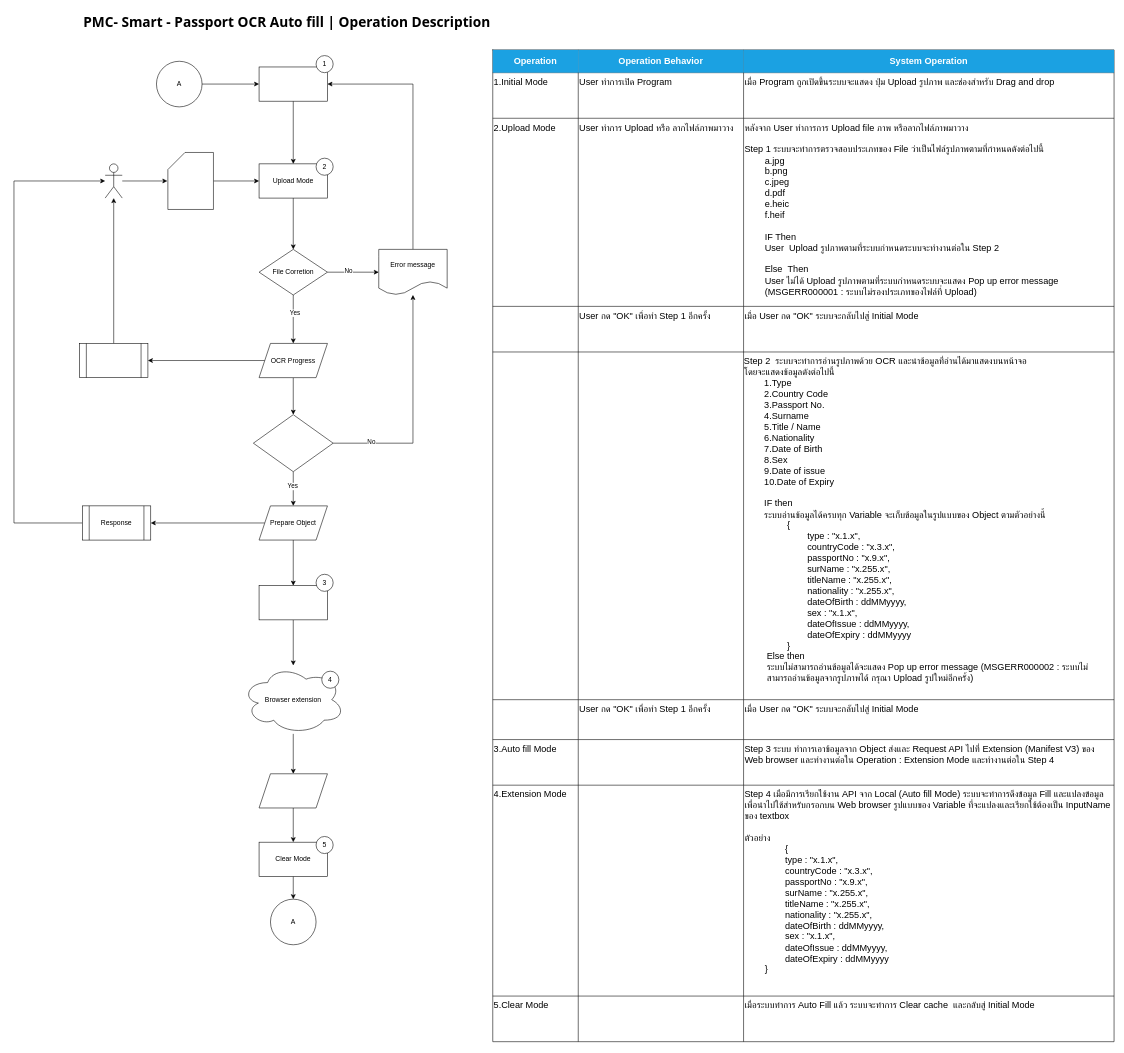
This 1124x1053 diagram has some shape labels left out. Here are the shapes that lost their labels. From the top down, the centre of each, then its label:
At (x=292, y=83): "Initial Mode".
At (x=113, y=180): "User".
At (x=190, y=180): ".JPG".
At (x=113, y=360): "Loading screen".
At (x=293, y=443): "Information corretion".
At (x=292, y=602): "Auto fill Mode".
At (x=292, y=790): "Auto fill on screen".
